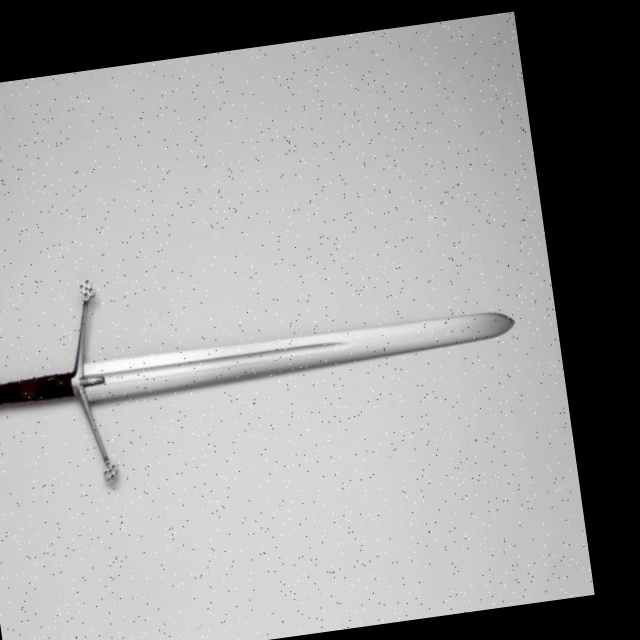Sharp-Object: (0, 295, 516, 440)
